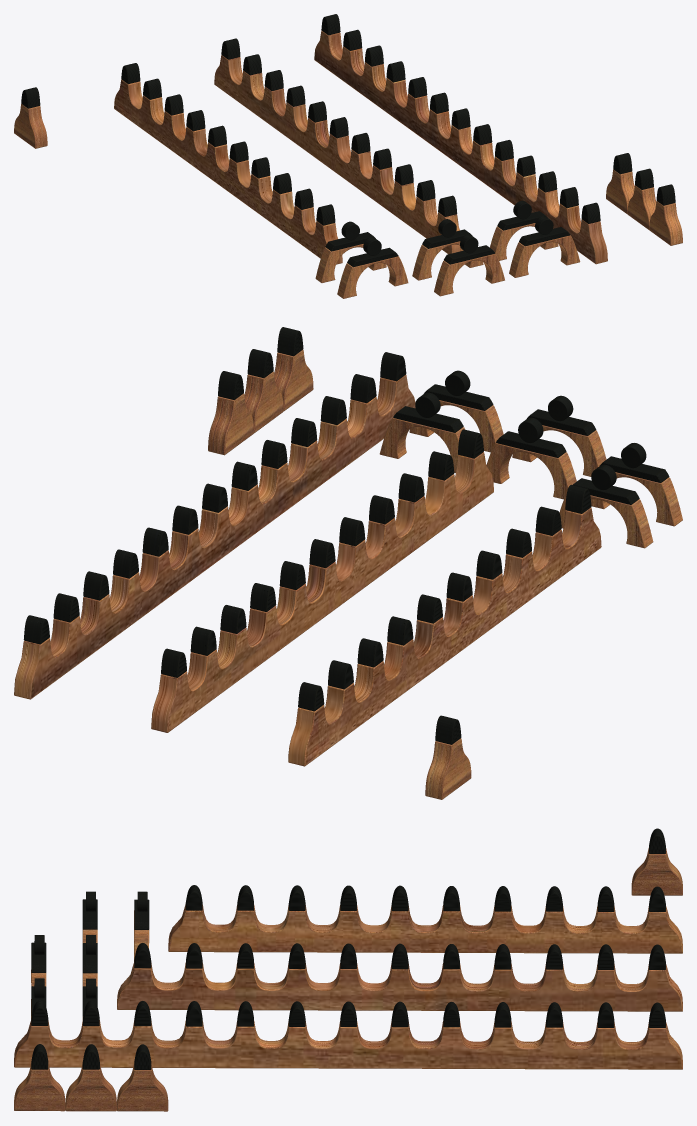
Rendered from qinma.fbx.
3 renders of one model, top to bottom at view 1: azimuth 30°, elevation 25°; view 2: azimuth 150°, elevation 25°; view 3: azimuth 270°, elevation 25°, orthographic. The views are drawn at different scales.
Parts seen in each view (by area): view 1: 物件_376, 物件_379, 物件_380, 物件_402, 物件_396, 物件_408, 物件_352, 物件_355, 物件_350, 物件_348, 物件_394, 物件_400 (+7 smaller); view 2: 物件_376, 物件_379, 物件_380, 物件_355, 物件_348, 物件_400, 物件_352, 物件_350, 物件_406, 物件_396, 物件_394, 物件_402 (+7 smaller); view 3: 物件_376, 物件_379, 物件_380, 物件_350, 物件_348, 物件_352, 物件_355.
Part boxes in pixels (box(x1,y1,x2,y2)): 物件_376: box(314, 30, 607, 264); 物件_379: box(214, 55, 463, 254); 物件_380: box(114, 79, 342, 264); 物件_402: box(434, 253, 504, 296); 物件_396: box(337, 256, 408, 298); 物件_408: box(509, 235, 580, 277); 物件_352: box(649, 201, 682, 245); 物件_355: box(14, 104, 47, 148); 物件_350: box(627, 185, 656, 229); 物件_348: box(606, 169, 634, 214); 物件_394: box(315, 244, 386, 282); 物件_400: box(412, 241, 483, 280); 物件_376: box(14, 375, 415, 699); 物件_379: box(151, 452, 493, 732); 物件_380: box(288, 507, 601, 766); 物件_355: box(425, 738, 471, 799); 物件_348: box(208, 393, 253, 455); 物件_400: box(486, 443, 576, 499); 物件_352: box(274, 350, 313, 410); 物件_350: box(244, 371, 283, 433); 物件_406: box(379, 418, 464, 472); 物件_396: box(591, 472, 682, 526); 物件_394: box(559, 494, 653, 548); 物件_402: box(512, 425, 606, 476); 物件_376: box(14, 1020, 682, 1069); 物件_379: box(117, 962, 682, 1011); 物件_380: box(168, 904, 682, 953); 物件_350: box(65, 1064, 116, 1111); 物件_348: box(117, 1064, 168, 1111); 物件_352: box(14, 1063, 65, 1111); 物件_355: box(631, 848, 682, 895).
Bounding box in the file's own units: 31 × 4.02 × 39.
2 materials, 2 textured.
